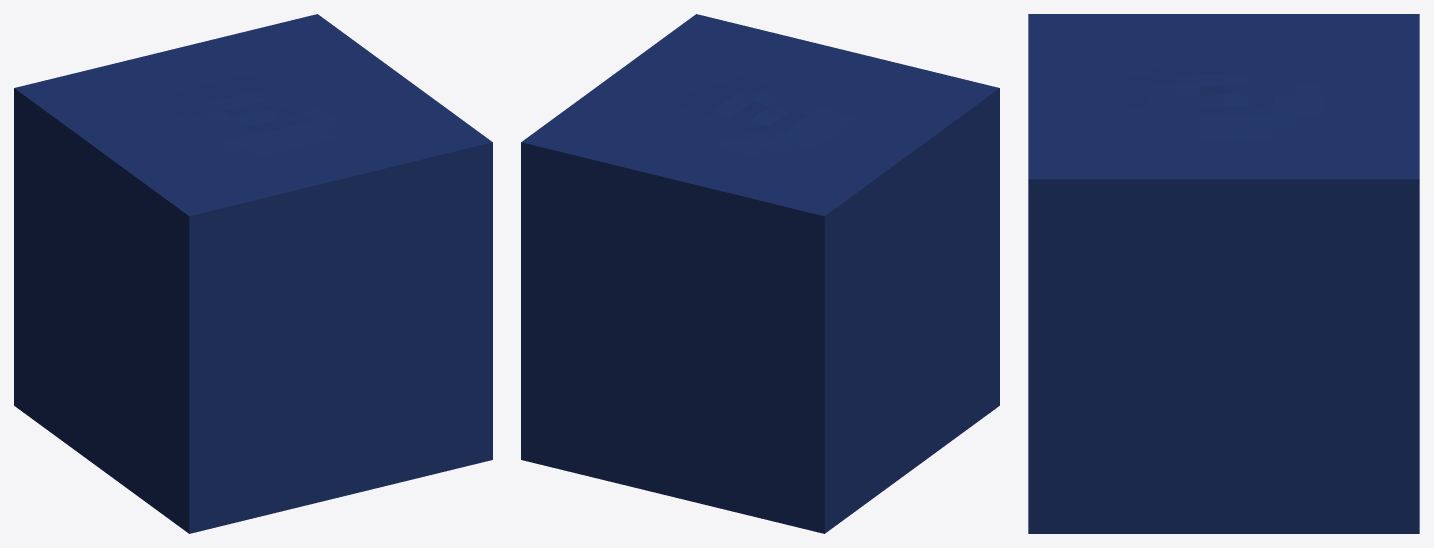
The model's file is Boss.fbx.
3 renders of one model, left to right at view 1: azimuth 30°, elevation 25°; view 2: azimuth 150°, elevation 25°; view 3: azimuth 270°, elevation 25°, orthographic. The views are drawn at different scales.
Parts seen in each view (by area): view 1: Cube; view 2: Cube; view 3: Cube.
Part boxes in pixels (x1,y1,x2,y2): Cube: [14, 14, 492, 533]; Cube: [521, 14, 999, 533]; Cube: [1028, 14, 1419, 533].
Bounding box in the file's own units: 8 × 8.15 × 8.
